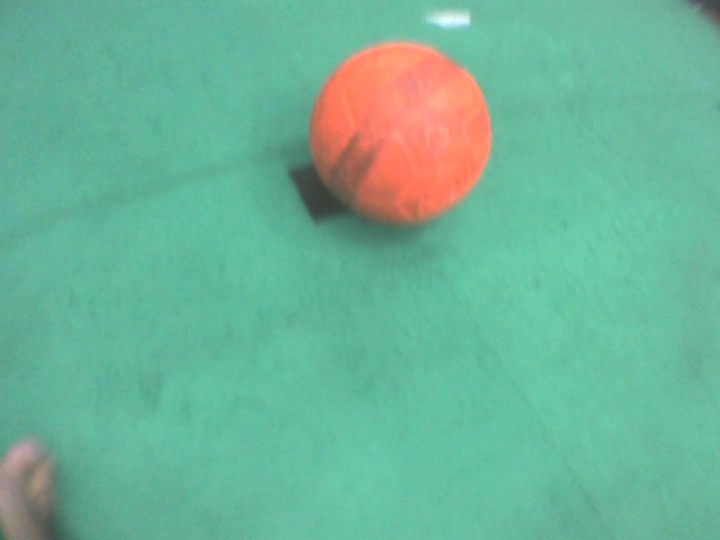bola: (305, 30, 500, 227)
